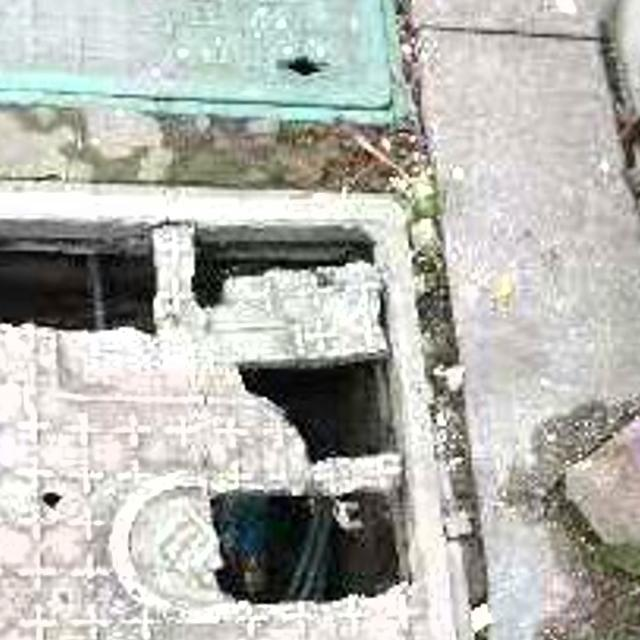broke: (0, 174, 526, 640)
